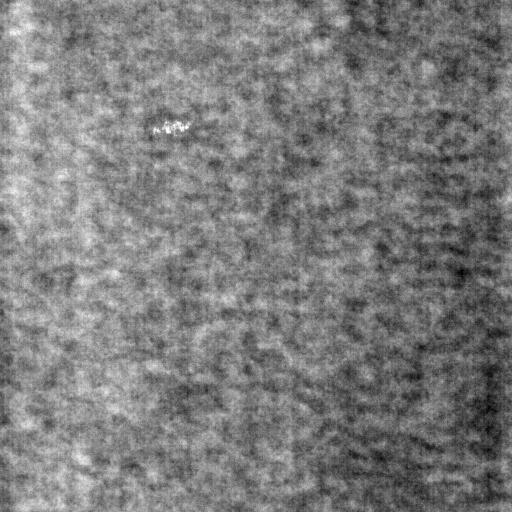DefectTypeA: (147, 116, 195, 137)
